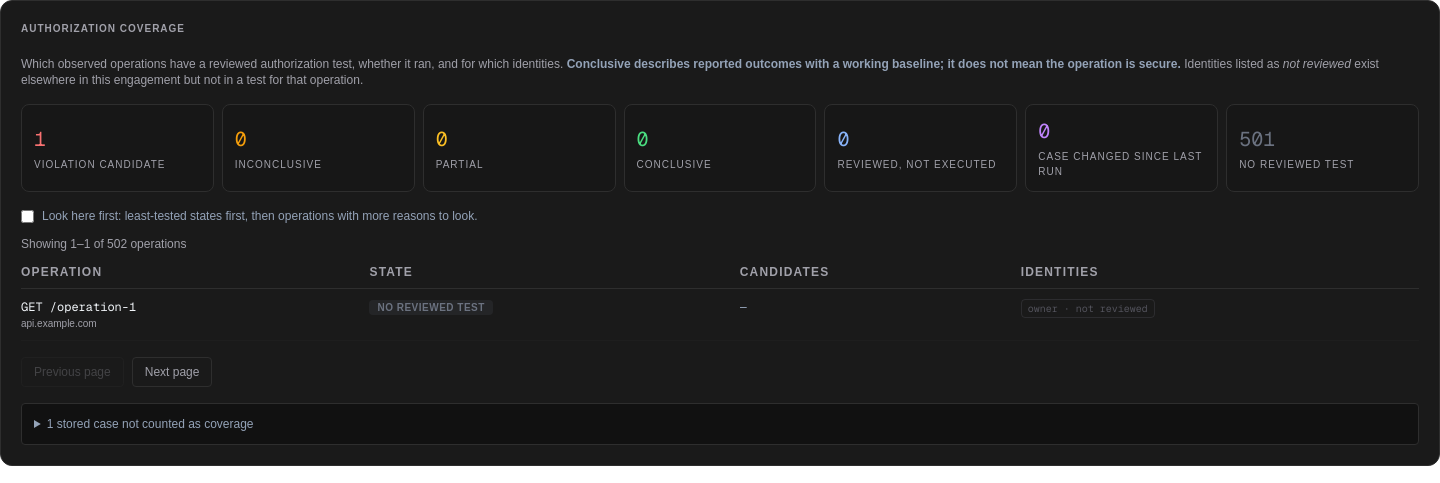
Test: AuthorizationCoveragePanel pagination › reloads page one when a legacy summary shrinks past the requested offset
What coordinates should you click on to do the following:
click the button "Next page"
I would click on:
 (172, 372)
Its box is [132, 357, 212, 387].
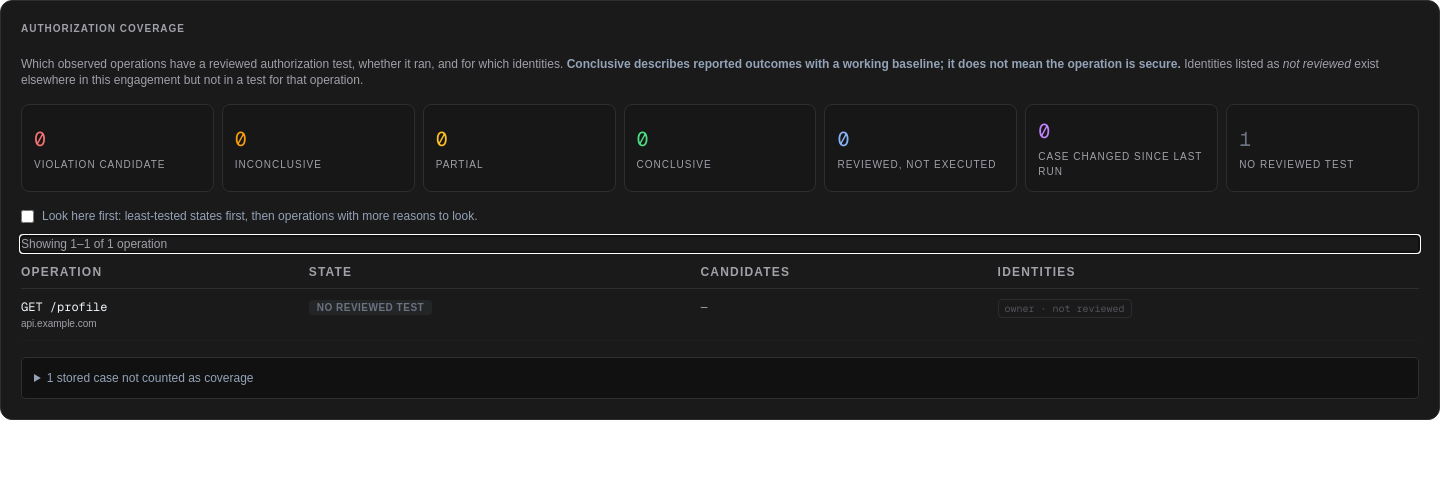
Expected: the text "GET /profile" is shown, [21, 299, 107, 315]
Expected: the text "GET /operation-1" is gone
